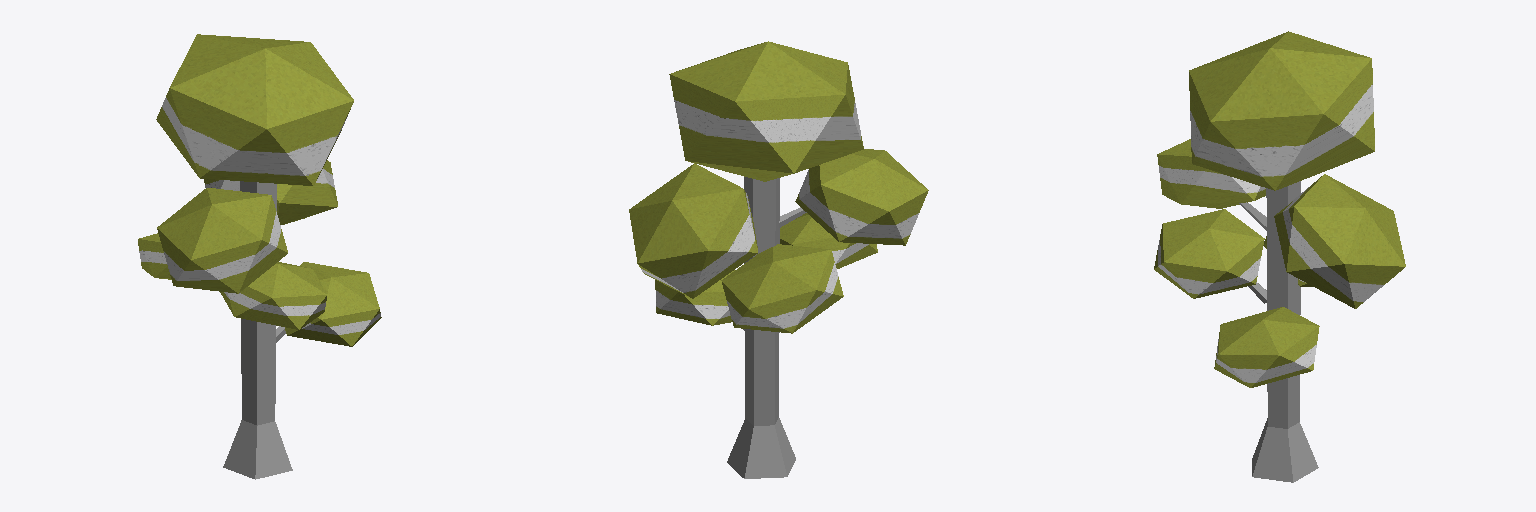
3 renders of one model, left to right at view 1: azimuth 30°, elevation 25°; view 2: azimuth 150°, elevation 25°; view 3: azimuth 270°, elevation 25°, orthographic.
Parts seen in each view (by area): view 1: Icosphere.002, Cylinder.005_Cylinder.011; view 2: Icosphere.002, Cylinder.005_Cylinder.011; view 3: Icosphere.002, Cylinder.005_Cylinder.011.
Part boxes in pixels (x1,y1,x2,y2): Icosphere.002: (138,34,381,346); Cylinder.005_Cylinder.011: (223,181,292,479); Icosphere.002: (629,41,928,333); Cylinder.005_Cylinder.011: (727,177,806,478); Icosphere.002: (1154,31,1405,387); Cylinder.005_Cylinder.011: (1239,181,1318,482).
Bounding box in the file's own units: 2.06 × 3.65 × 1.99.
Materials: 2 (1 with a texture image).